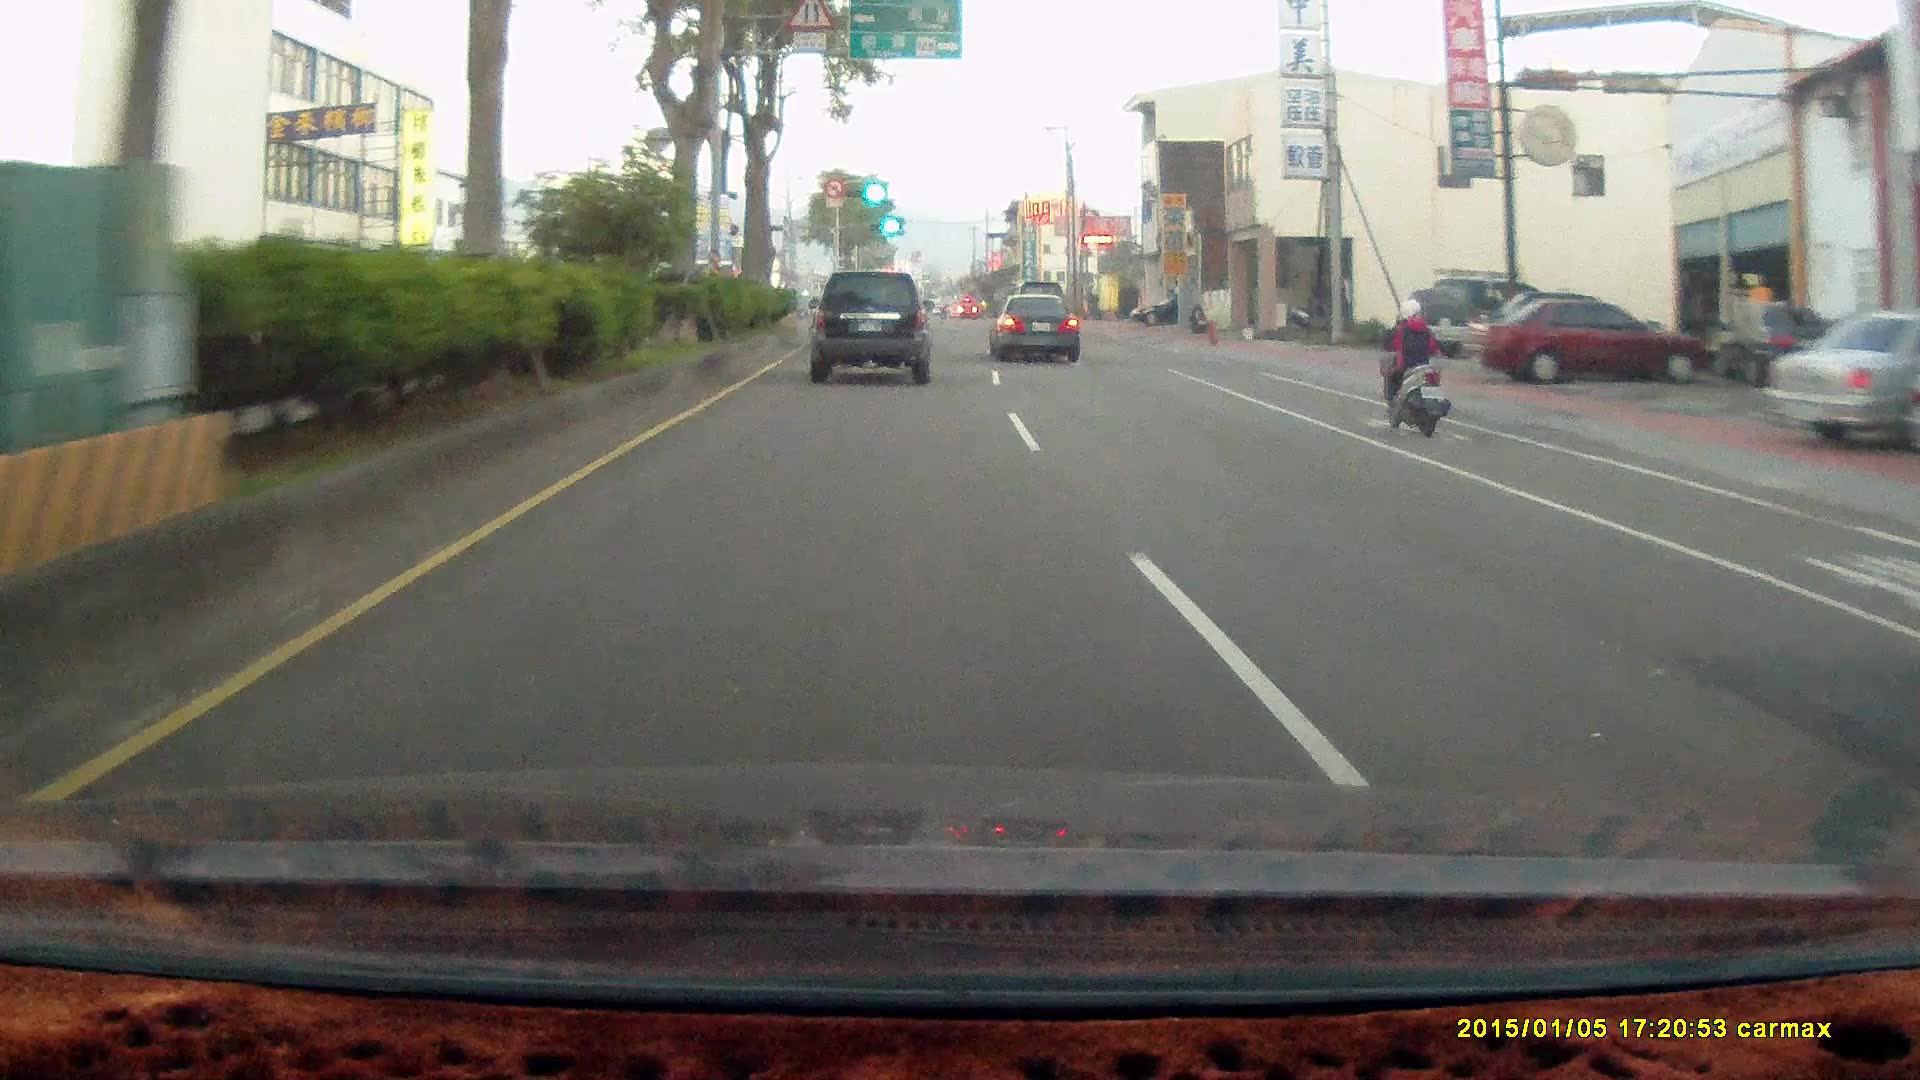rider: (1365, 287, 1464, 447), (1374, 291, 1449, 432)
vehicle: (1762, 308, 1920, 447), (1462, 296, 1704, 384), (1476, 297, 1700, 390), (810, 272, 934, 386), (810, 271, 933, 384), (1418, 273, 1560, 363), (1421, 276, 1558, 359), (1710, 304, 1826, 386), (986, 290, 1079, 362), (990, 294, 1082, 364), (1128, 294, 1205, 326)
